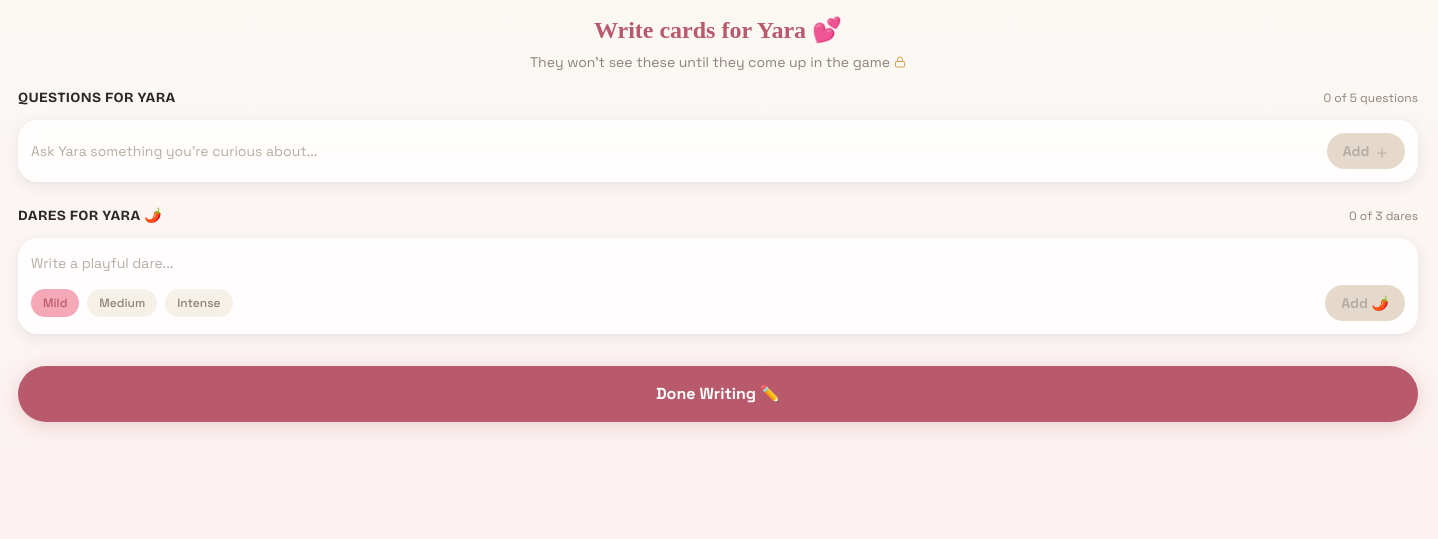
Test: PartnerAuthoredSetup › shows waiting screen after done writing
The width and height of the screenshot is (1438, 539).
Click the button "Done Writing ✏️" at (718, 394), box x1=18 y1=366 x2=1418 y2=422
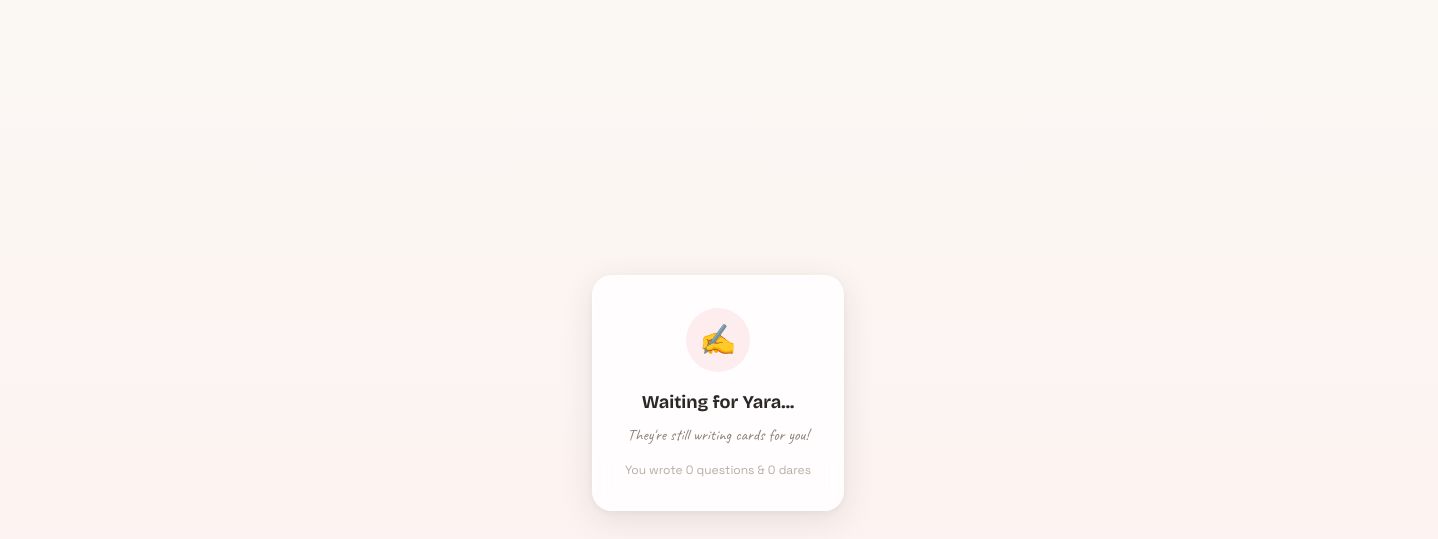
Check: the heading "Waiting for Yara..." is shown, box x1=642 y1=391 x2=794 y2=413
